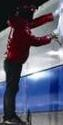boots: (2, 114, 25, 124)
gloves: (50, 27, 60, 39), (0, 1, 0, 1)
hard-hat: (18, 4, 34, 19)
